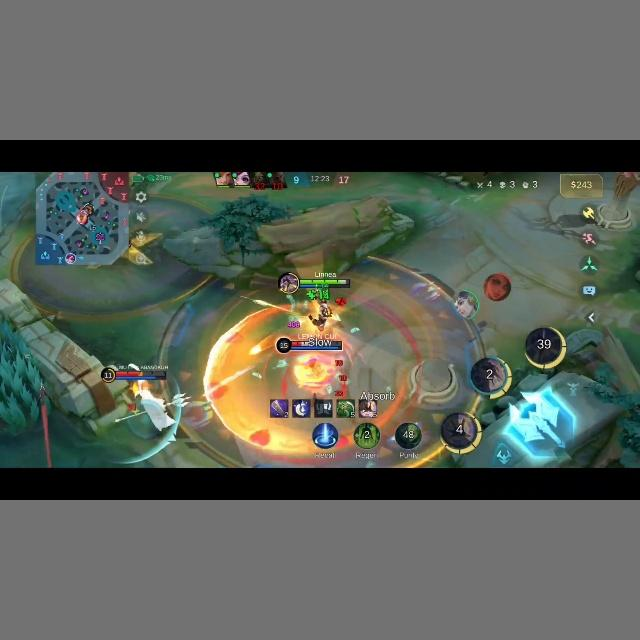hp_enemy: (274, 336, 346, 354), (102, 365, 170, 380)
hp_self: (297, 278, 348, 288)
turret_enemy: (602, 171, 639, 227)
